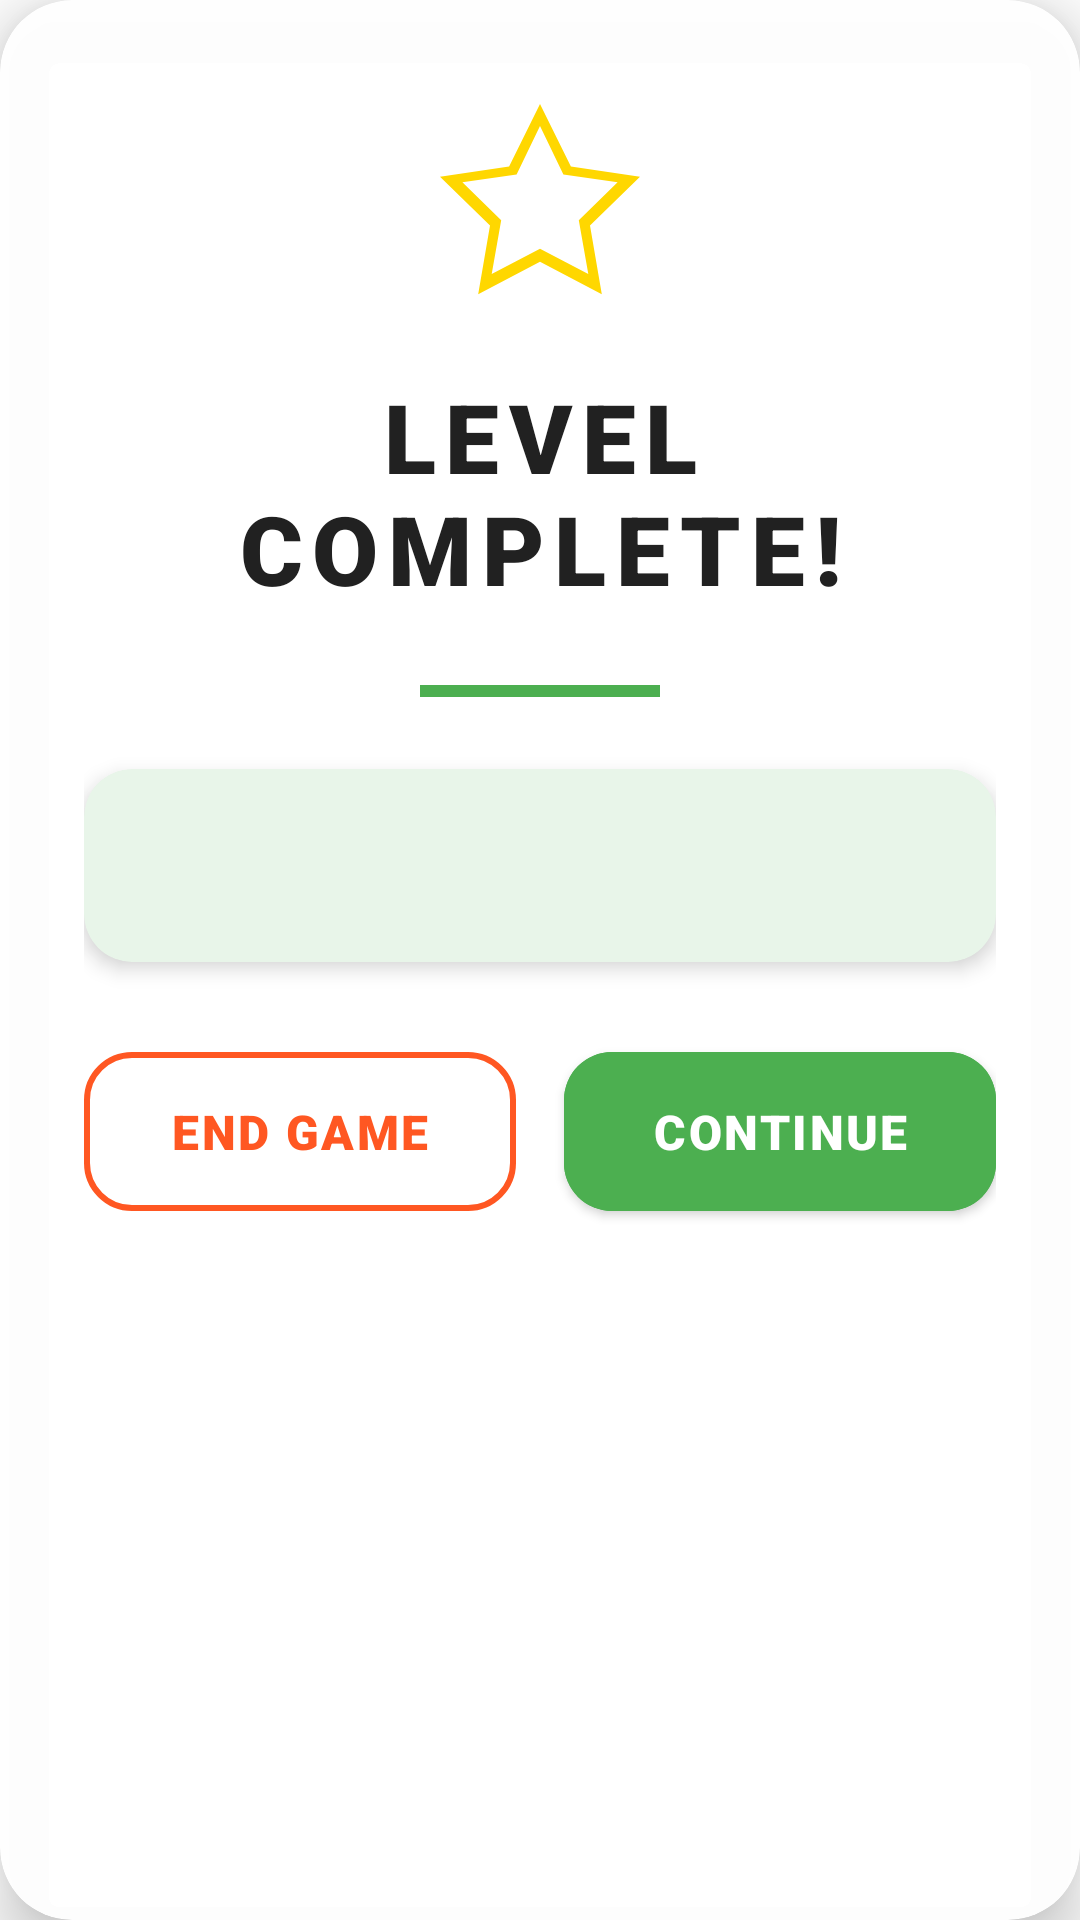

Icons on this 1080px x 1920px Android screen, each with the point to tap as [x,y]:
achievement perfect: [540,199]
